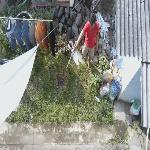Pedang: (66, 38, 78, 72)
